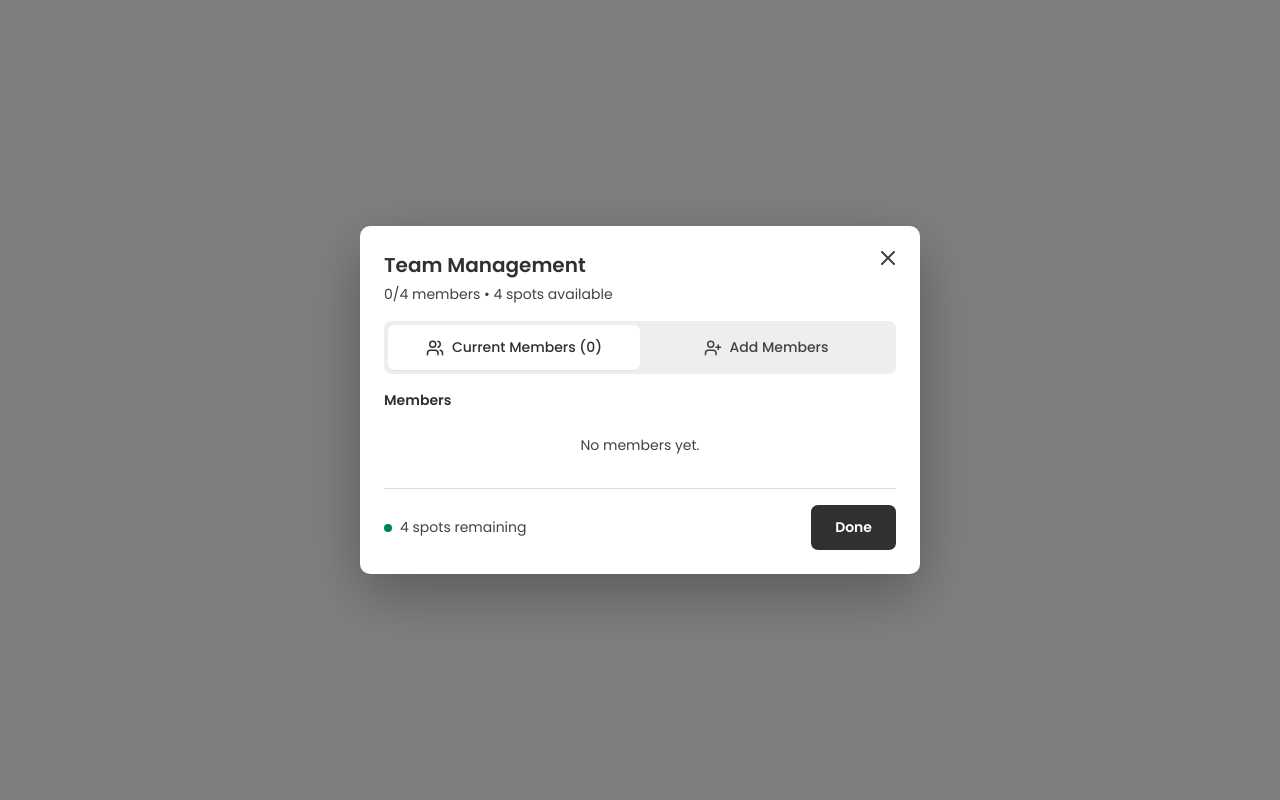
Test: MemberManagerModal — Add Members › tags each person with their role in the class, not their account role
Click the button "Add Members": {"x": 766, "y": 348} [640,325,892,370]
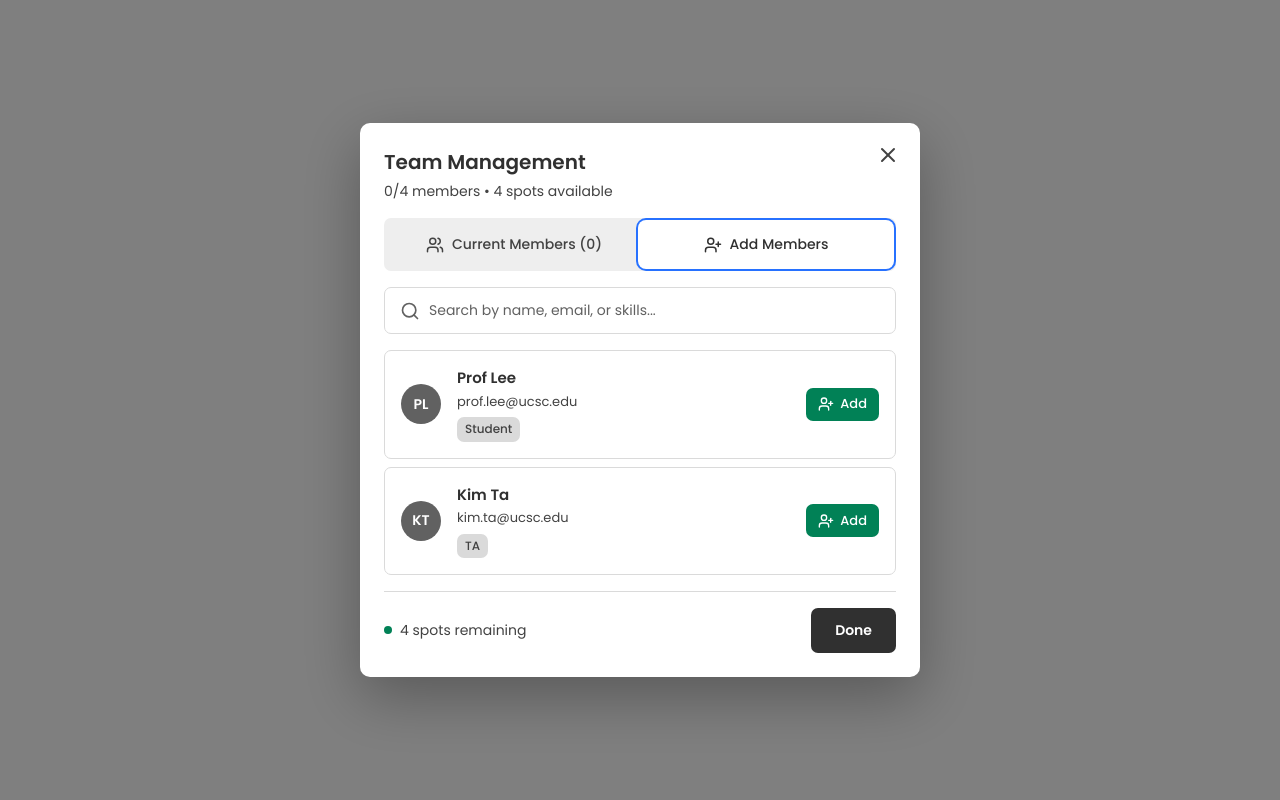
Expected: the text "prof.lee@ucsc.edu" is shown, [457,392,577,411]
Expected: the text "Student" is shown, [457,417,520,442]
Expected: the text "TA" is shown, [457,534,488,558]
Note: The search matches the tag shown, not the account role behind it.
In the search field named "Search members": {"x": 640, "y": 311} [384,287,896,334], type "instructor"
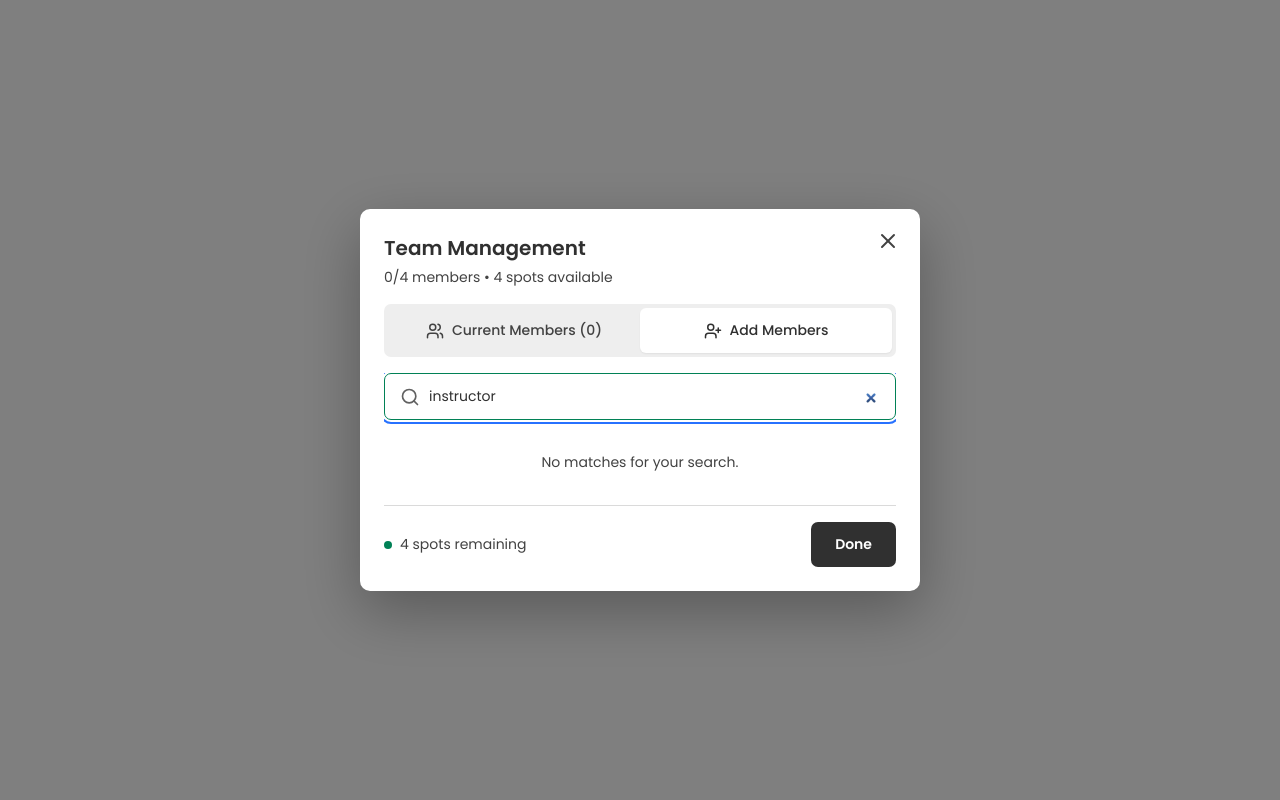
Expected: the list item "No matches for your search." is shown, [542,452,739,472]
